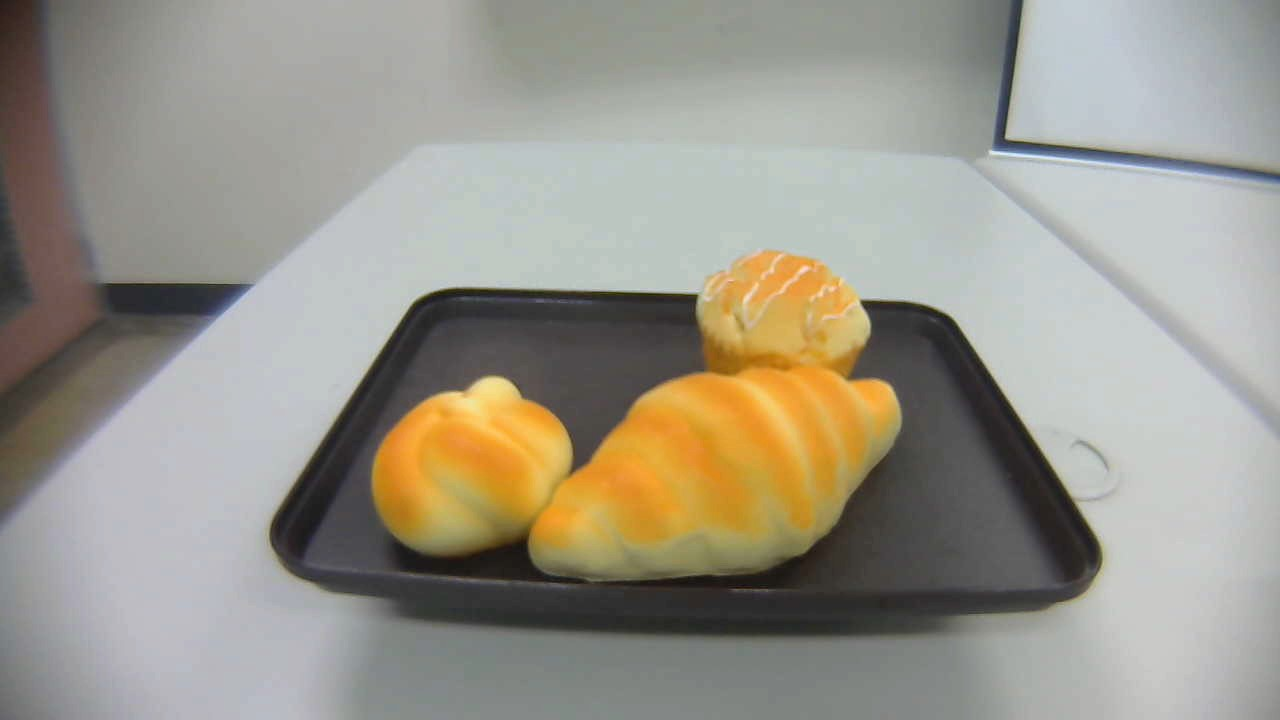croissant: (527, 367, 906, 580)
cupcake: (694, 249, 873, 393)
twist bread: (369, 376, 575, 556)
